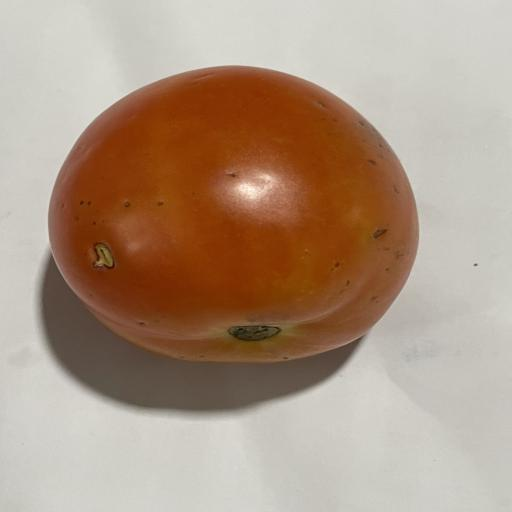unripe: (49, 66, 418, 362), (236, 175, 272, 200)
